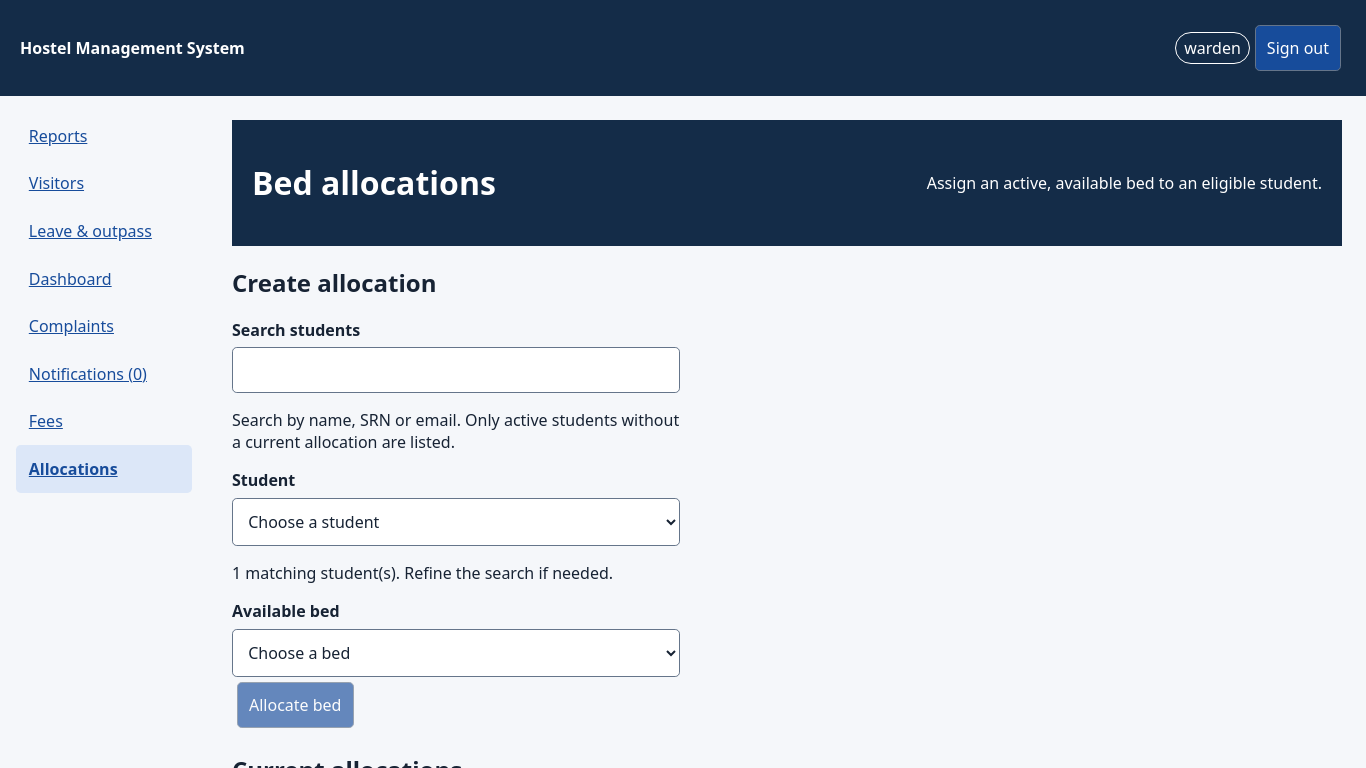
Test: preserves useful field validation errors and refreshes stale eligibility after rejection
Select "Ananya Demo — PES2UG24CS101 (ananya@hms.test)" in the dropdown labelled "Student" at x=456, y=522, box [232,498,680,546]
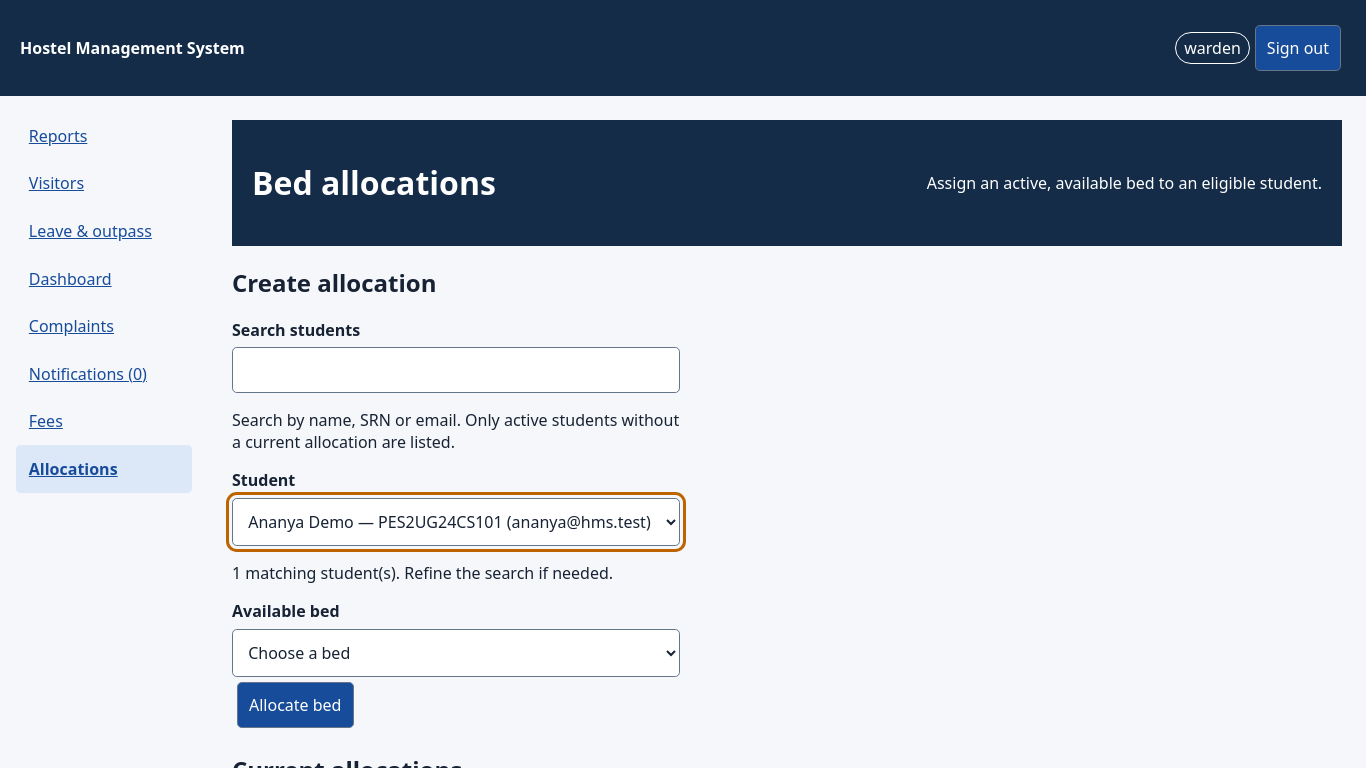
Select "Block A · Room 101 · Bed 1" in the dropdown labelled "Available bed" at x=456, y=653, box [232,629,680,677]
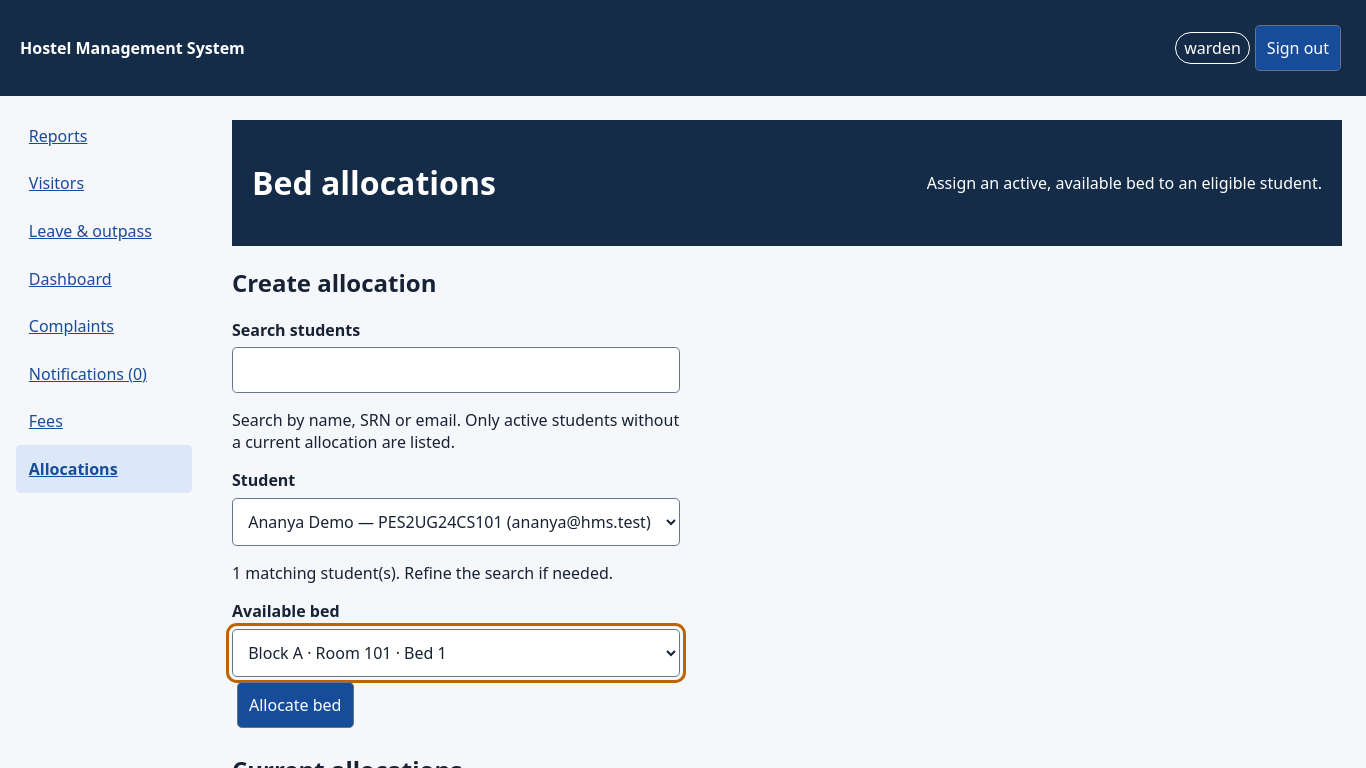
Click the button "Allocate bed" at x=295, y=705, box [237,682,354,728]
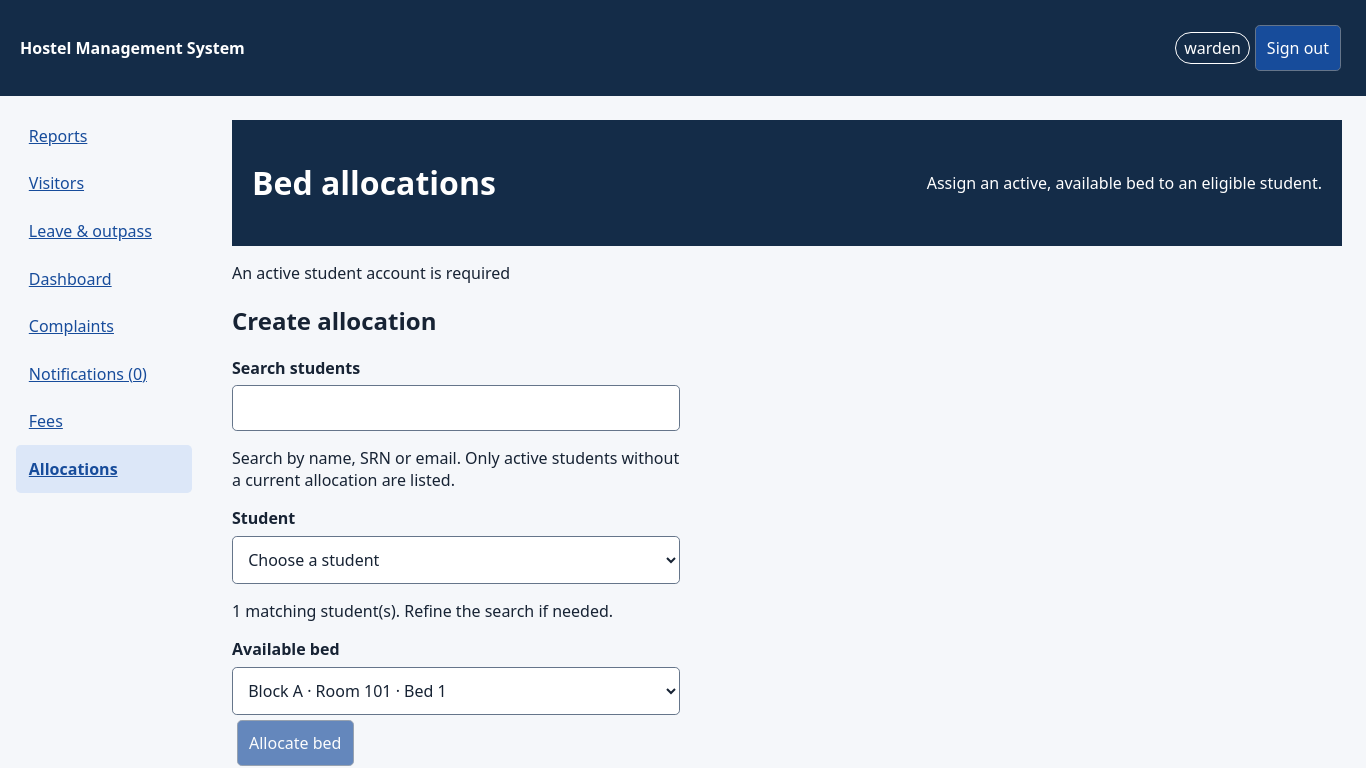
Now the text "An active student account is required" is shown, box [232,262,510,284]
